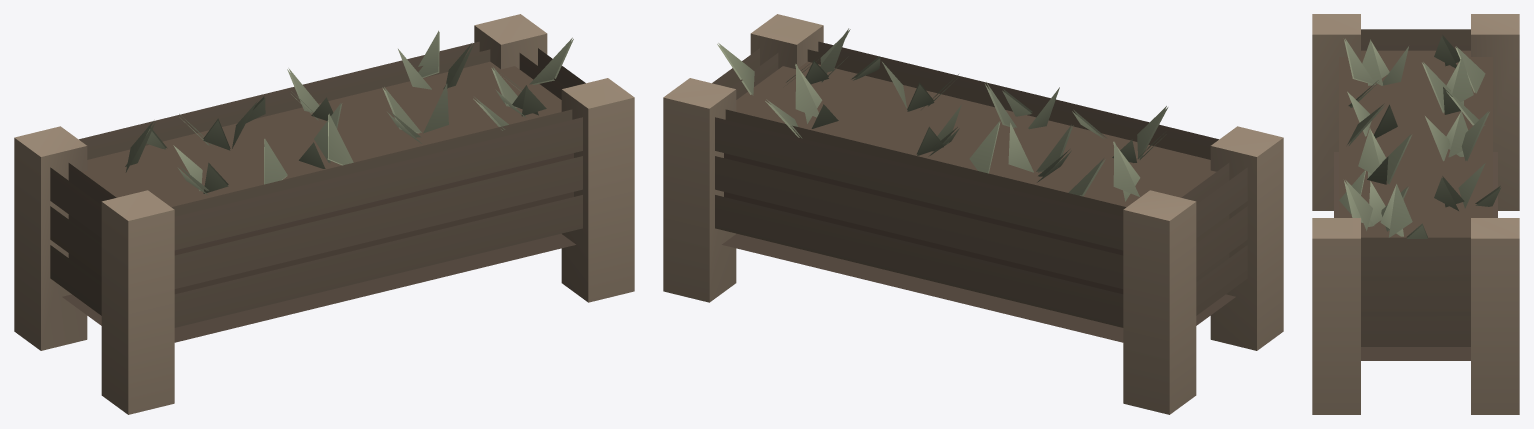
File: planter.lod.glb
3 renders of one model, left to right at view 1: azimuth 30°, elevation 25°; view 2: azimuth 150°, elevation 25°; view 3: azimuth 270°, elevation 25°, orthographic. The views are drawn at different scales.
Parts seen in each view (by area): view 1: planter.001; view 2: planter.001; view 3: planter.001.
Part boxes in pixels (x1=…): planter.001: x1=14, y1=14, x2=634, y2=414; planter.001: x1=663, y1=14, x2=1283, y2=414; planter.001: x1=1312, y1=14, x2=1519, y2=414.
Size of the model in its own units: 1.8 by 0.746 by 0.704.
